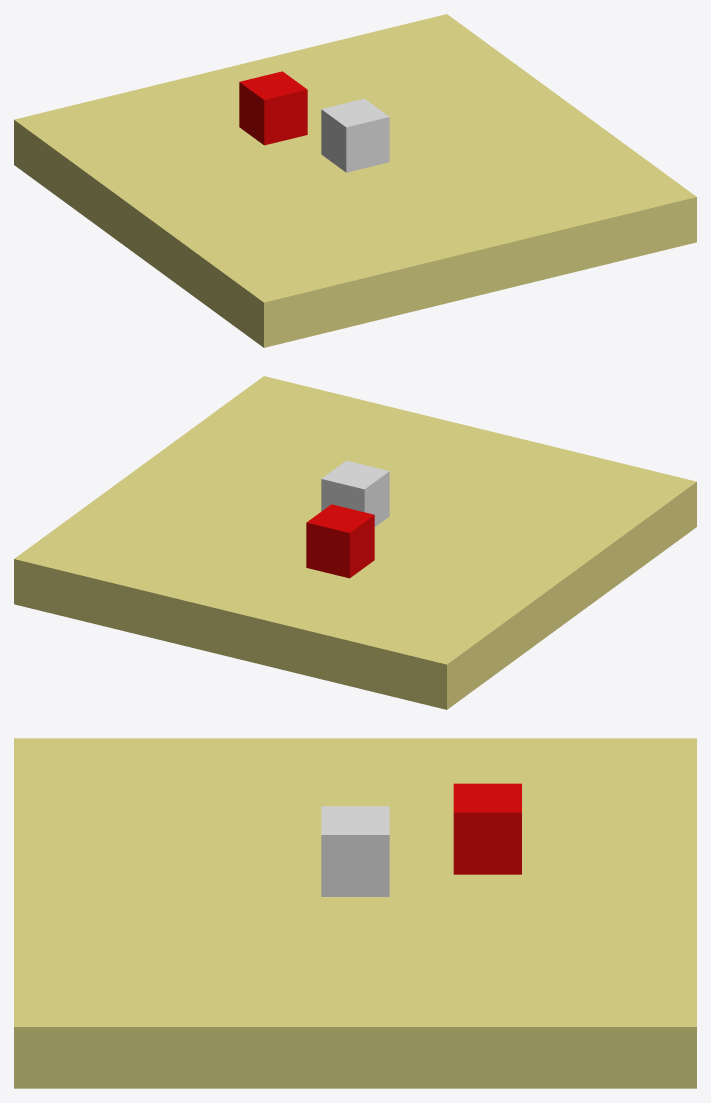
The model's file is movement_test.glb.
The picture shows the model from 3 angles, top to bottom: view 1: azimuth 30°, elevation 25°; view 2: azimuth 150°, elevation 25°; view 3: azimuth 270°, elevation 25°; orthographic projection. The views are drawn at different scales.
Visible parts, largest first — view 1: Floor, Player, Interactable; view 2: Floor, Interactable, Player; view 3: Floor, Interactable, Player.
Boxes of the visible parts, x1,y1,x2,y2 form: Floor: (14,14,696,347); Player: (321,98,389,172); Interactable: (239,71,307,145); Floor: (14,376,696,709); Interactable: (306,504,374,578); Player: (321,460,389,526); Floor: (14,738,696,1088); Interactable: (453,783,521,874); Player: (321,806,389,896).
Size of the model in its own units: 10 by 2 by 10.
